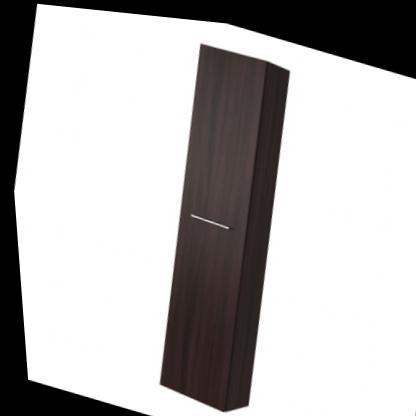Cabinet: (124, 25, 316, 416)
